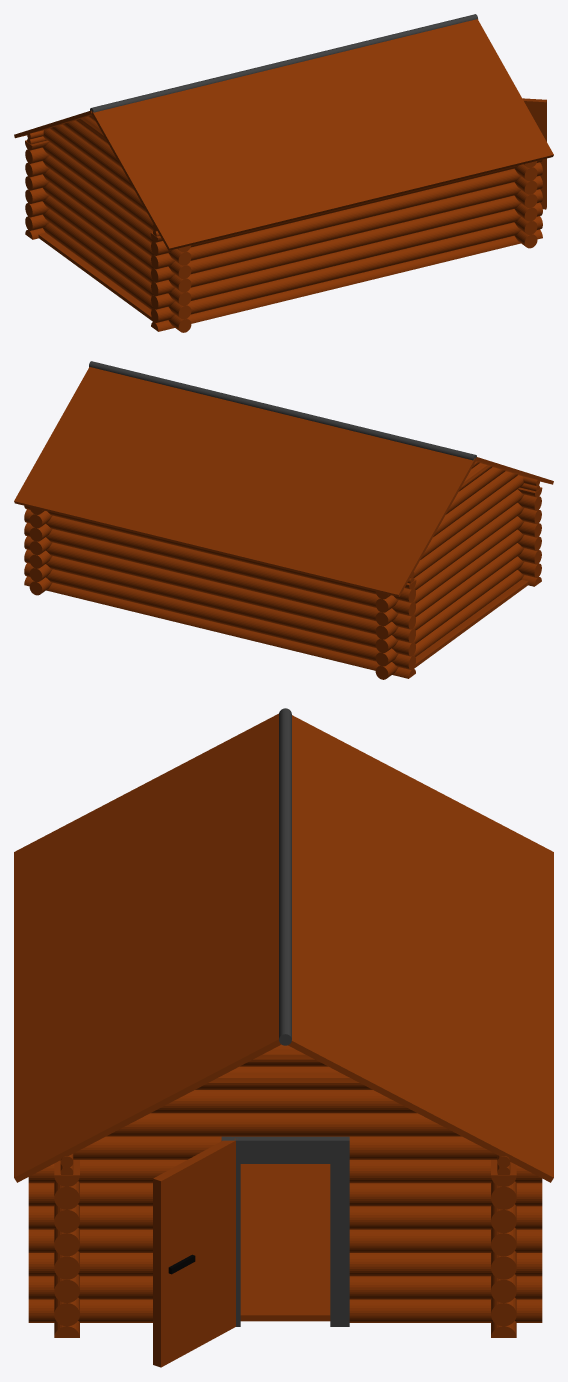
The model's file is WoodenHouse_v0.fbx.
3 renders of one model, top to bottom at view 1: azimuth 30°, elevation 25°; view 2: azimuth 150°, elevation 25°; view 3: azimuth 270°, elevation 25°, orthographic. The views are drawn at different scales.
Visible parts, largest first — view 1: Cube.001, Cylinder.011, Cylinder.007, Cylinder.009, Cylinder.008, Cylinder.010, HalfCylinder, Cylinder.032, Cylinder.004, Cylinder.003, Cylinder.002, Cylinder.005 (+10 smaller); view 2: Cube, Cylinder.019, Cylinder.021, Cylinder.022, Cylinder.020, Cylinder.023, HalfCylinder.004, Cylinder.032, Cylinder.002, Cylinder.003, Cylinder.004, Cylinder.005 (+9 smaller); view 3: Cube.001, Cube, DoorPanel, Cube.002, Cylinder.047, Cylinder.029, Cylinder.026, Cylinder.025, Cylinder.030, Cylinder.027, Cylinder.028, Cylinder.031 (+8 smaller).
Boxes of the visible parts, left/top/right/bottom form: Cube.001: left=92, top=19, right=553, bottom=250; Cylinder.011: left=151, top=162, right=542, bottom=269; Cylinder.007: left=151, top=216, right=542, bottom=322; Cylinder.009: left=151, top=189, right=542, bottom=296; Cylinder.008: left=151, top=202, right=542, bottom=309; Cylinder.010: left=151, top=176, right=542, bottom=282; HalfCylinder: left=151, top=229, right=542, bottom=331; Cylinder.032: left=90, top=14, right=478, bottom=114; Cylinder.004: left=43, top=169, right=191, bottom=279; Cylinder.003: left=43, top=182, right=191, bottom=292; Cylinder.002: left=42, top=196, right=191, bottom=305; Cylinder.005: left=43, top=155, right=191, bottom=265; Cube: left=14, top=367, right=476, bottom=596; Cylinder.019: left=24, top=563, right=415, bottom=669; Cylinder.021: left=24, top=536, right=415, bottom=643; Cylinder.022: left=24, top=523, right=415, bottom=629; Cylinder.020: left=24, top=549, right=415, bottom=656; Cylinder.023: left=24, top=509, right=415, bottom=616; HalfCylinder.004: left=24, top=576, right=415, bottom=678; Cylinder.032: left=89, top=361, right=476, bottom=460; Cylinder.002: left=375, top=543, right=524, bottom=652; Cylinder.003: left=375, top=529, right=524, bottom=639; Cylinder.004: left=375, top=516, right=524, bottom=626; Cylinder.005: left=375, top=502, right=524, bottom=612; Cube.001: left=14, top=713, right=280, bottom=1182; Cube: left=288, top=715, right=553, bottom=1182; DoorPanel: left=153, top=1138, right=235, bottom=1367; Cube.002: left=221, top=1137, right=330, bottom=1321; Cylinder.047: left=106, top=1113, right=461, bottom=1136; Cylinder.029: left=28, top=1206, right=542, bottom=1229; Cylinder.026: left=28, top=1276, right=542, bottom=1299; Cylinder.025: left=28, top=1299, right=542, bottom=1322; Cylinder.030: left=28, top=1183, right=542, bottom=1206; Cylinder.027: left=28, top=1253, right=542, bottom=1276; Cylinder.028: left=28, top=1229, right=542, bottom=1252; Cylinder.031: left=28, top=1160, right=542, bottom=1183.
Bounding box in the file's own units: 6553 × 2610 × 4203.
3 materials, 3 textured.
